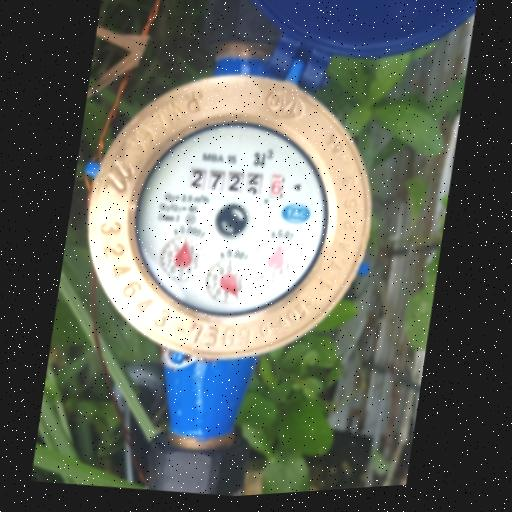2: (188, 169, 207, 192), (246, 172, 264, 196), (227, 171, 244, 195)
6: (269, 173, 285, 199)
7: (208, 169, 225, 194)
border_water_meter_number: (186, 160, 287, 206)
